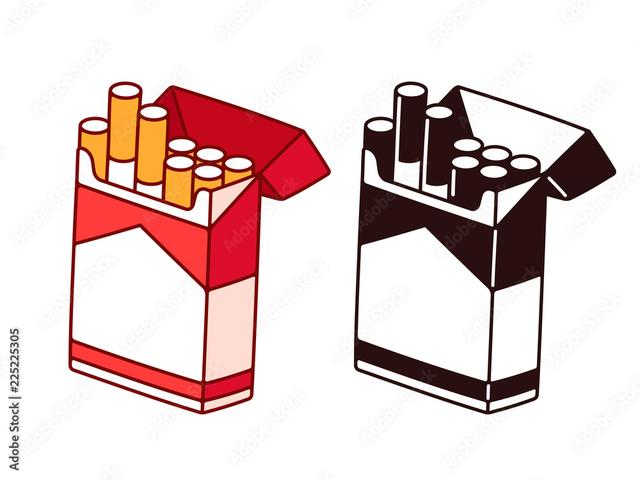Cigarette: (106, 80, 141, 188), (393, 82, 424, 190), (422, 101, 453, 209), (135, 103, 163, 199), (363, 112, 395, 184), (79, 116, 110, 179), (164, 154, 192, 209), (192, 164, 222, 196), (224, 154, 253, 187)
